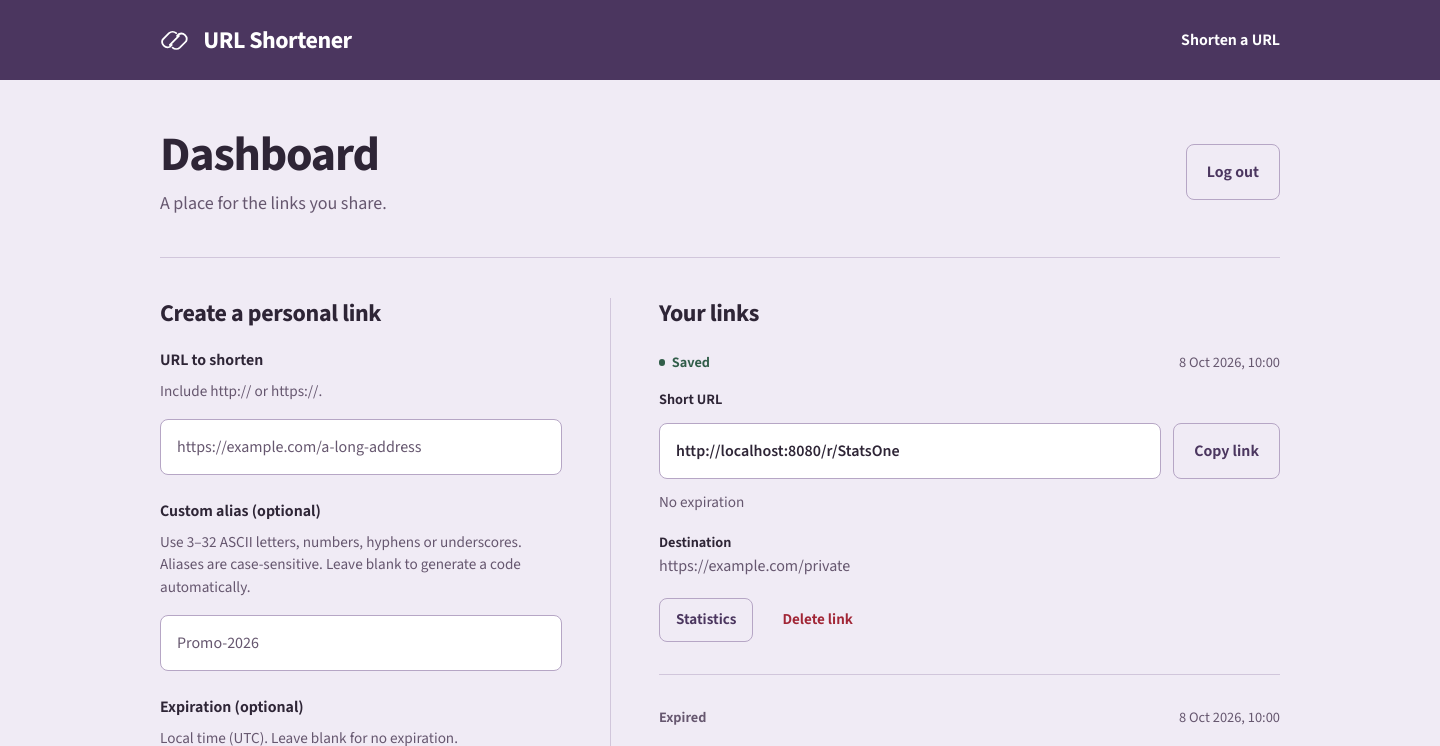
Test: offers retry for service errors and malformed responses
The image size is (1440, 746).
Click the button "Statistics" at {"x": 706, "y": 620}, box [659,598,754,642]
(page scrolled)
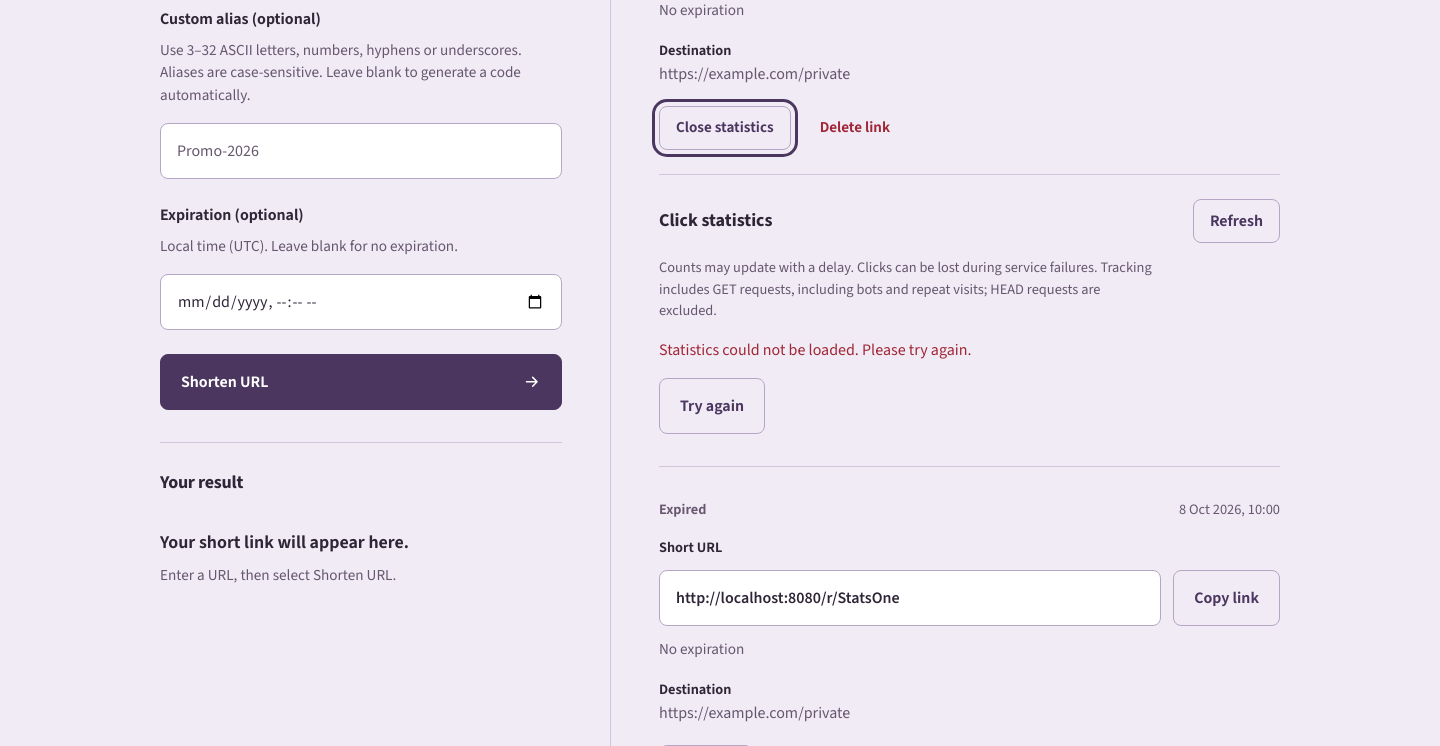
Expected: the text "Statistics could not be loaded. Please try again." is shown, [659,339,972,360]
Click the button "Try again" at {"x": 712, "y": 406}, box [659,378,765,434]
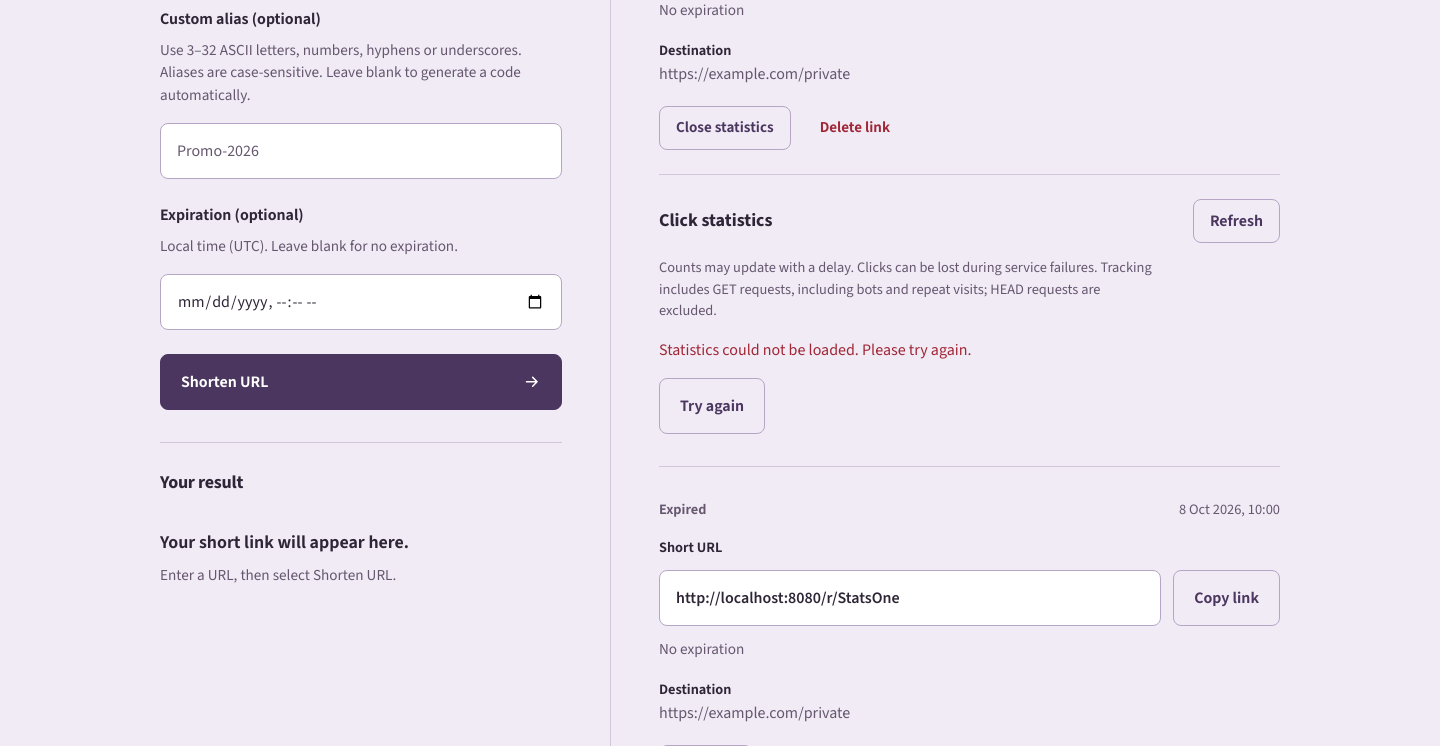
Expected: the text "Statistics could not be loaded. Please try again." is shown, [659,339,972,360]
Click the button "Try again" at {"x": 712, "y": 406}, box [659,378,765,434]
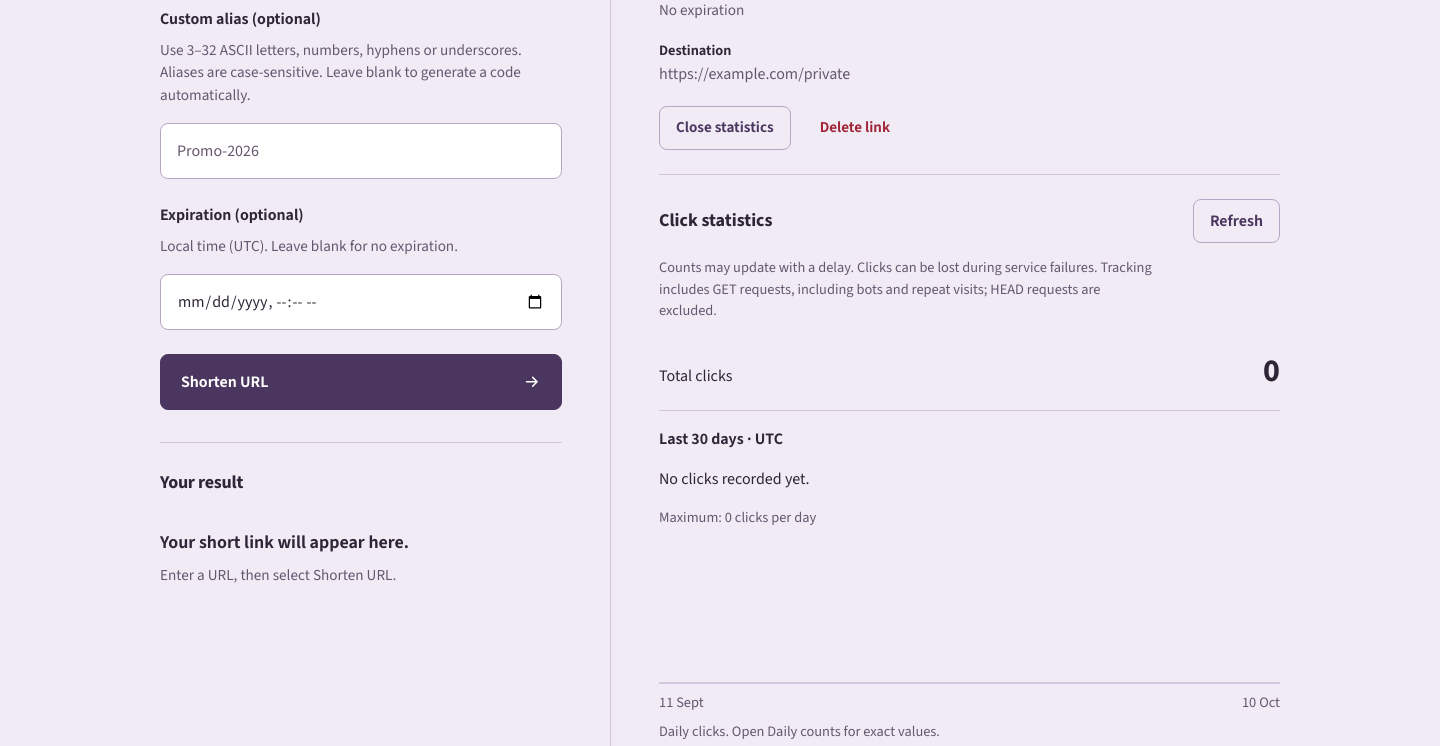
Expected: the text "No clicks recorded yet." is shown, [659,468,810,489]
